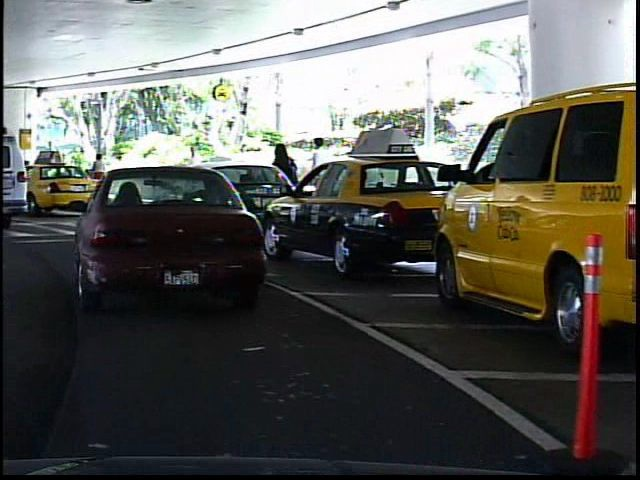person: (266, 135, 301, 224), (305, 131, 336, 216), (181, 140, 206, 204), (85, 148, 109, 196)
